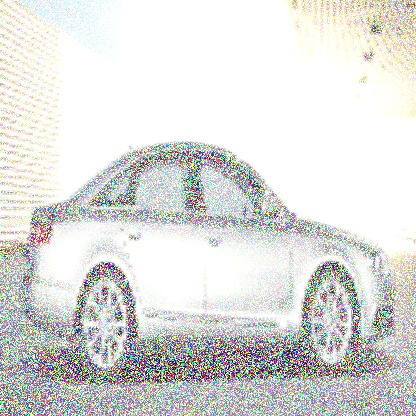Vehicle: (22, 141, 396, 381)
